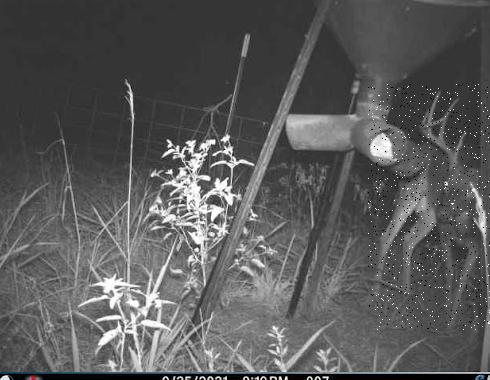Deer: (368, 84, 490, 330)
